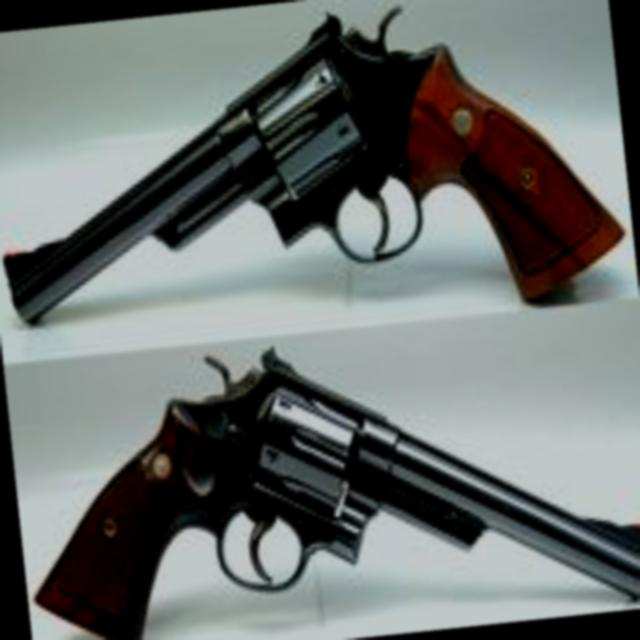revolver: (0, 0, 640, 374)
